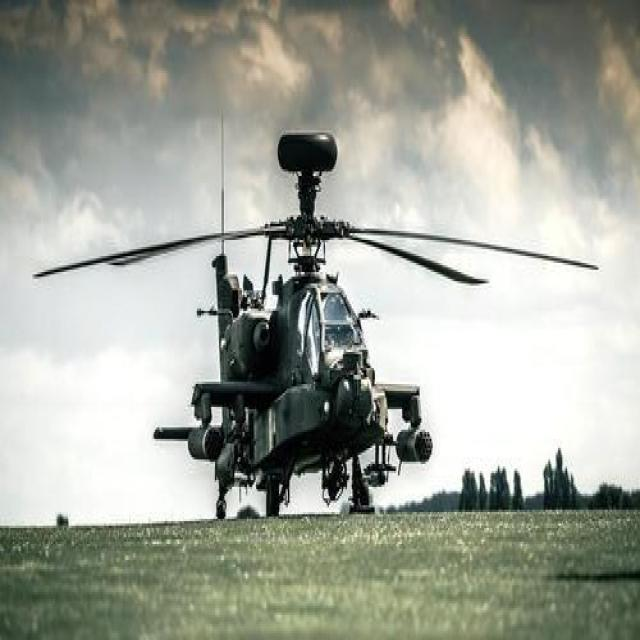MIL_HELO: (34, 127, 578, 519)
